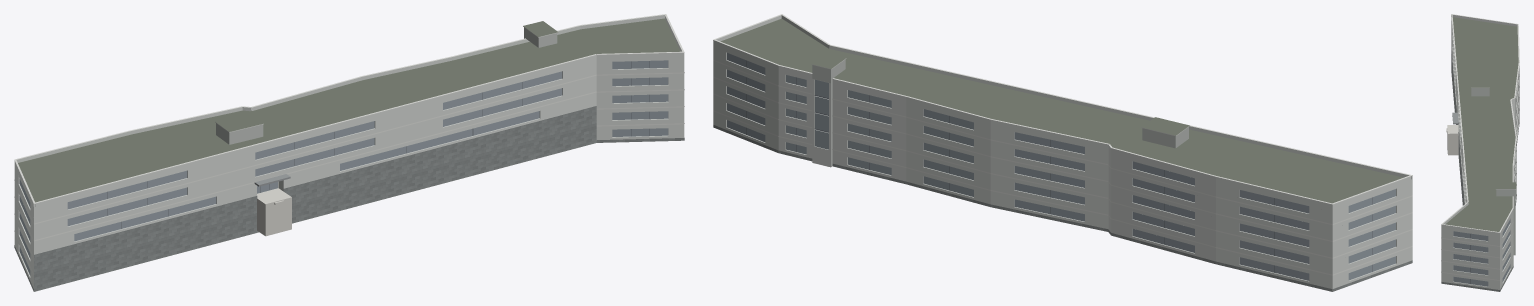
3 views of the same model, side by side, from view 1: azimuth 30°, elevation 25°; view 2: azimuth 150°, elevation 25°; view 3: azimuth 270°, elevation 25° (orthographic). The views are drawn at different scales.
Parts seen in each view (by area): view 1: b503__wall, b503__roof, b503__base, b503__glass, b503__trim, b503__parapet, b503__entranceStair, b503__wall2; view 2: b503__wall, b503__roof, b503__glass, b503__trim, b503__parapet, b503__base, b503__wall2; view 3: b503__roof, b503__wall, b503__trim, b503__glass, b503__base, b503__parapet, b503__wall2, b503__entranceStair, b503__canopy.
Part boxes in pixels (x1,y1,x2,y2): b503__wall: (14, 56, 684, 288); b503__roof: (18, 18, 680, 276); b503__base: (14, 106, 684, 291); b503__glass: (19, 60, 668, 275); b503__trim: (14, 14, 684, 274); b503__parapet: (14, 15, 684, 206); b503__entranceStair: (257, 188, 291, 236); b503__wall2: (216, 27, 557, 144); b503__wall: (713, 43, 1412, 291); b503__roof: (720, 18, 1403, 203); b503__glass: (727, 53, 1395, 280); b503__trim: (713, 14, 1412, 275); b503__parapet: (713, 15, 1412, 207); b503__base: (713, 125, 1412, 291); b503__wall2: (812, 59, 1188, 166); b503__roof: (1445, 17, 1518, 231); b503__wall: (1441, 17, 1519, 289); b503__trim: (1441, 14, 1519, 280); b503__glass: (1453, 219, 1510, 286); b503__base: (1441, 50, 1519, 291); b503__parapet: (1441, 15, 1518, 234); b503__wall2: (1471, 88, 1515, 255); b503__entranceStair: (1446, 125, 1458, 155); b503__canopy: (1452, 112, 1458, 124).
Size of the model in its own units: 149 by 21.17 by 22.62.
11 materials, 1 textured.
